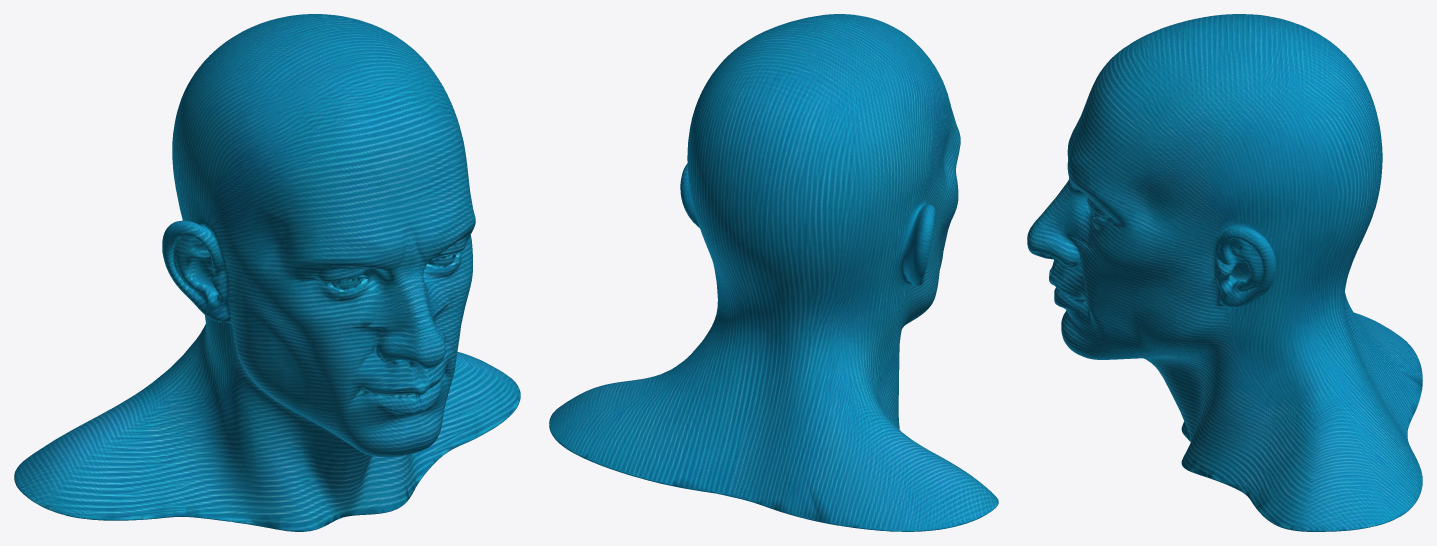
File: holo-male.glb
3 views of the same model, side by side, from view 1: azimuth 30°, elevation 25°; view 2: azimuth 150°, elevation 25°; view 3: azimuth 270°, elevation 25° (orthographic). The views are drawn at different scales.
Parts seen in each view (by area): view 1: node_0; view 2: node_0; view 3: node_0.
Boxes of the visible parts, <box> form: node_0: <box>14,14,520,531</box>; node_0: <box>549,14,998,531</box>; node_0: <box>1027,14,1422,531</box>.
Size of the model in its own units: 0.8611 by 0.7936 by 0.6774.
1 material, 1 textured.
